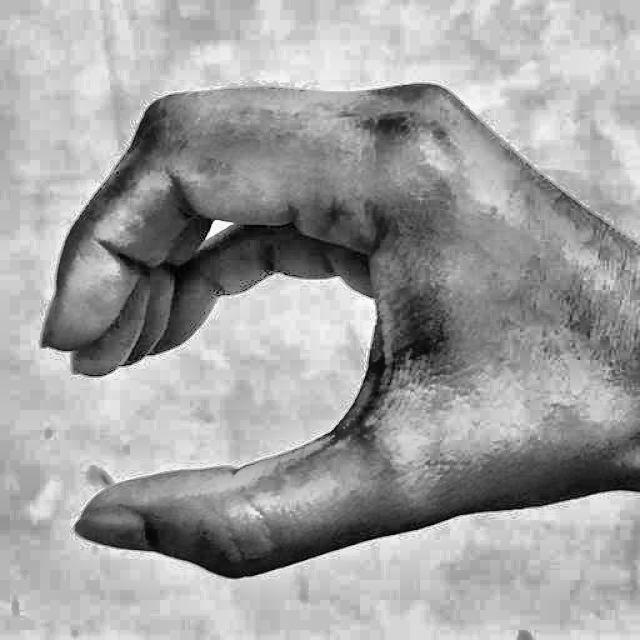Ka: (30, 46, 612, 604)
